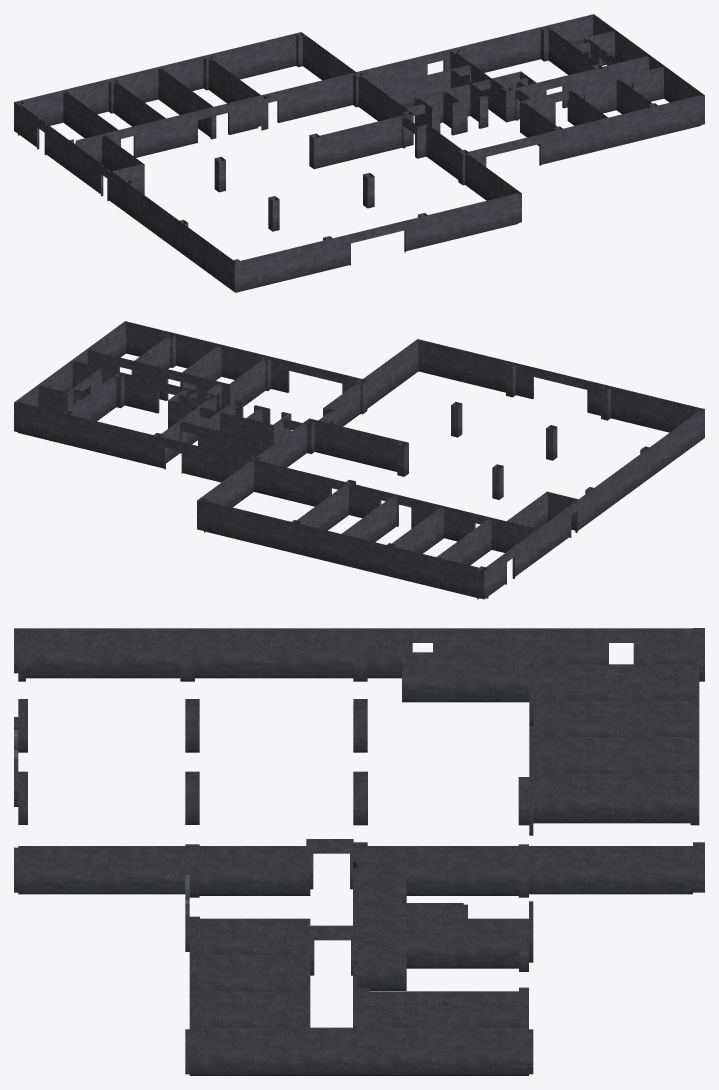
File: 1f墙体.obj
3 renders of one model, top to bottom at view 1: azimuth 30°, elevation 25°; view 2: azimuth 150°, elevation 25°; view 3: azimuth 270°, elevation 25°, orthographic. The views are drawn at different scales.
Visible parts, largest first — view 1: Line003; view 2: Line003; view 3: Line003.
Part boxes in pixels (x1,y1,x2,y2): Line003: (14, 14, 704, 292); Line003: (14, 321, 704, 599); Line003: (14, 628, 704, 1075).
Size of the model in its own units: 5351 by 300 by 3894.
